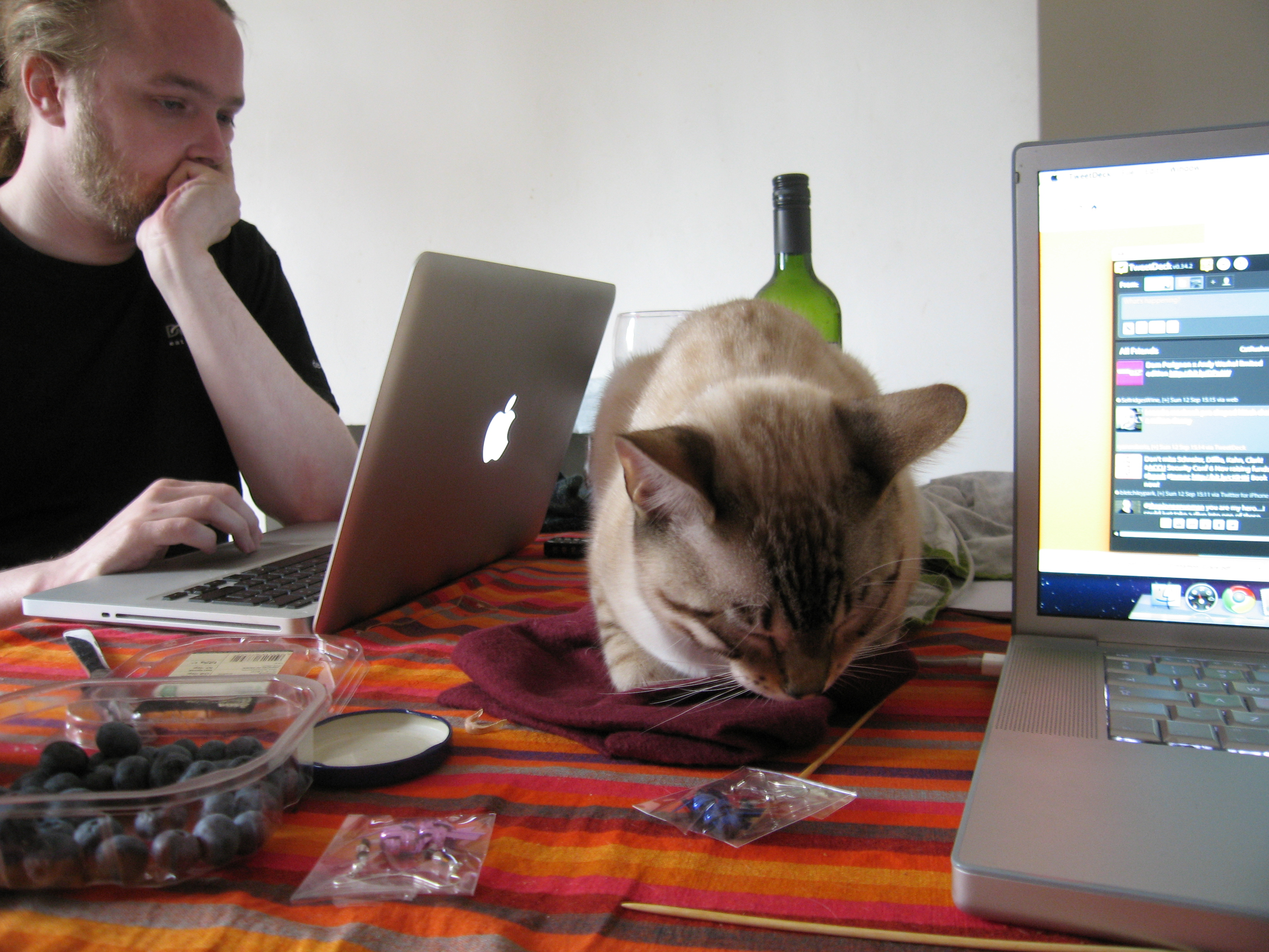cat: (585, 299, 969, 730)
